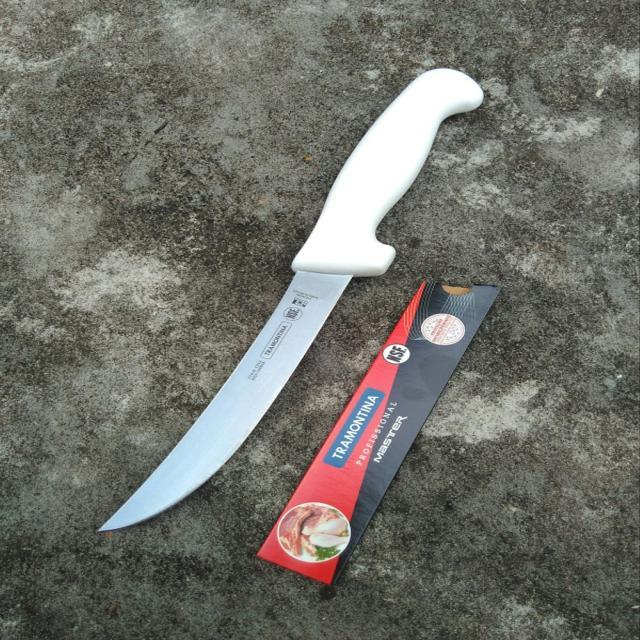Pisau: (88, 55, 503, 548)
